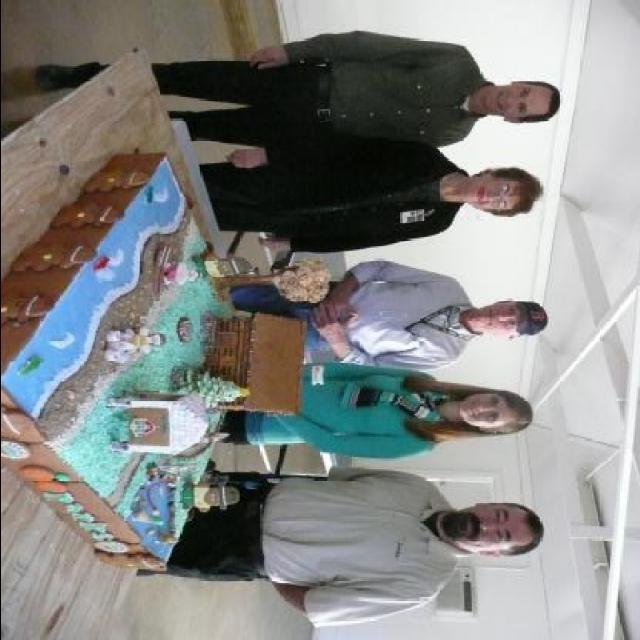Cake: (0, 152, 329, 574)
